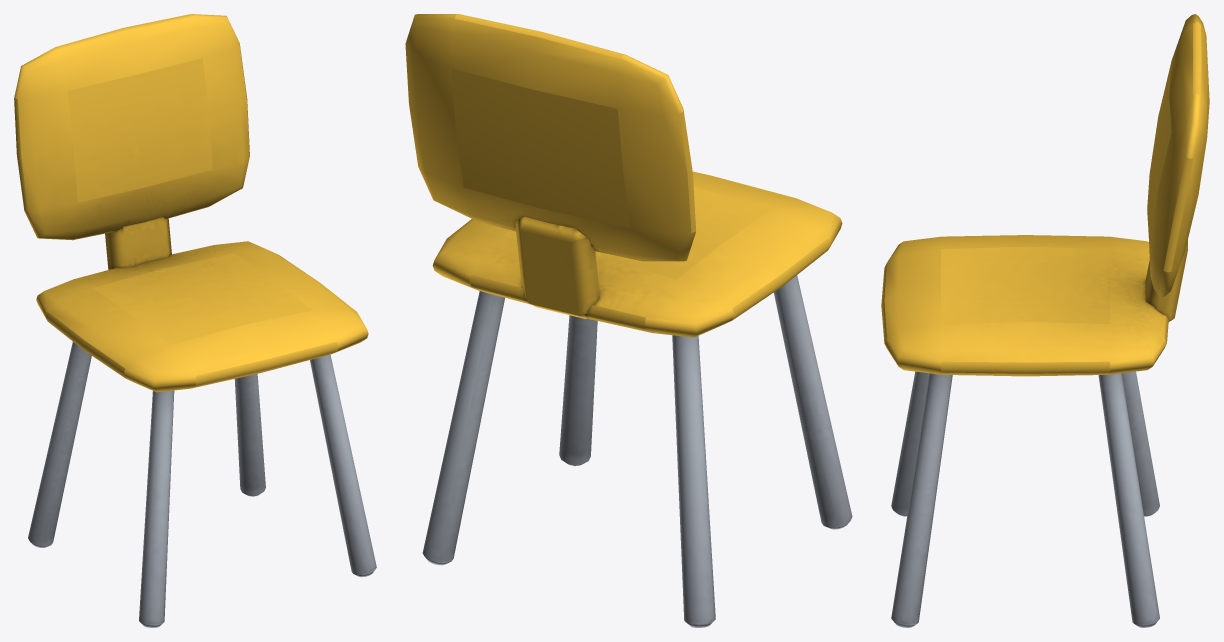
File: meeting_chair.glb
3 renders of one model, left to right at view 1: azimuth 30°, elevation 25°; view 2: azimuth 150°, elevation 25°; view 3: azimuth 270°, elevation 25°, orthographic. The views are drawn at different scales.
Visible parts, largest first — view 1: meeting_chair; view 2: meeting_chair; view 3: meeting_chair.
Part boxes in pixels (left/top/right/bottom): meeting_chair: left=14, top=14, right=376, bottom=627; meeting_chair: left=405, top=14, right=852, bottom=627; meeting_chair: left=881, top=14, right=1209, bottom=627.
Size of the model in its own units: 0.4735 by 0.8925 by 0.5159.
2 materials, 2 textured.
